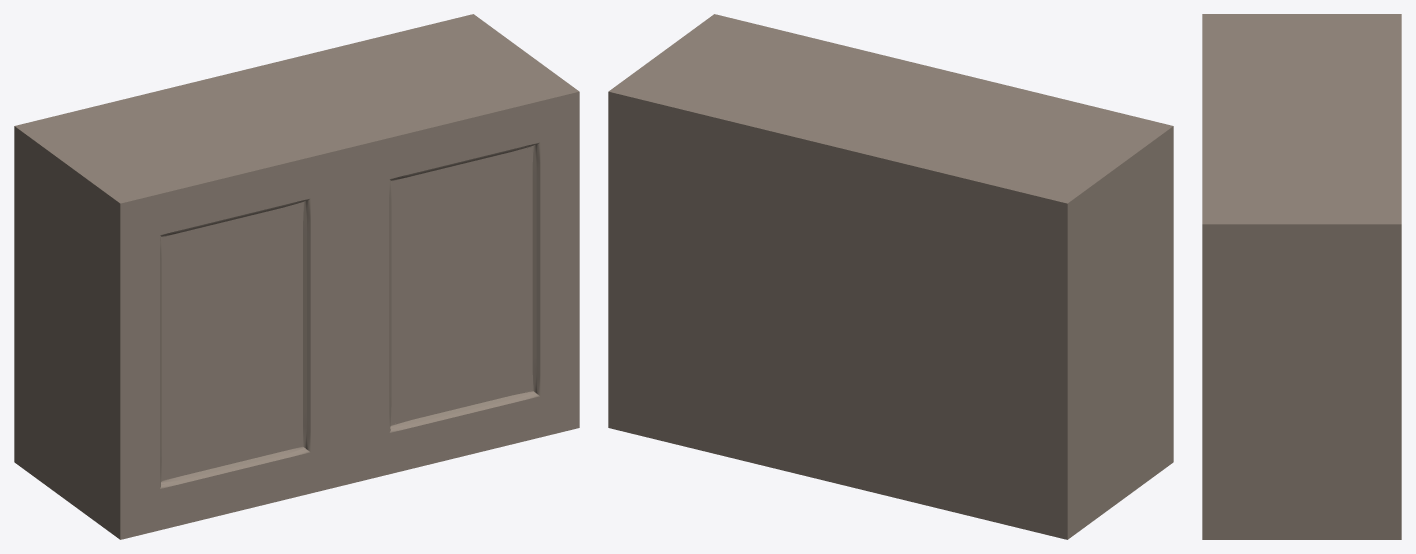
The model's file is Wall-Cabinet-21-High-12-Deep_std_001_W30in.glb.
The picture shows the model from 3 angles, left to right: view 1: azimuth 30°, elevation 25°; view 2: azimuth 150°, elevation 25°; view 3: azimuth 270°, elevation 25°; orthographic projection. The views are drawn at different scales.
Parts seen in each view (by area): view 1: Wall-Cabinet-21-High-12-Deep.std.001_W30in; view 2: Wall-Cabinet-21-High-12-Deep.std.001_W30in; view 3: Wall-Cabinet-21-High-12-Deep.std.001_W30in.
Part boxes in pixels (bbox=[...]): Wall-Cabinet-21-High-12-Deep.std.001_W30in: bbox=[14, 14, 579, 539]; Wall-Cabinet-21-High-12-Deep.std.001_W30in: bbox=[608, 14, 1173, 539]; Wall-Cabinet-21-High-12-Deep.std.001_W30in: bbox=[1202, 14, 1401, 539].
Size of the model in its own units: 0.762 by 0.5334 by 0.3048.
